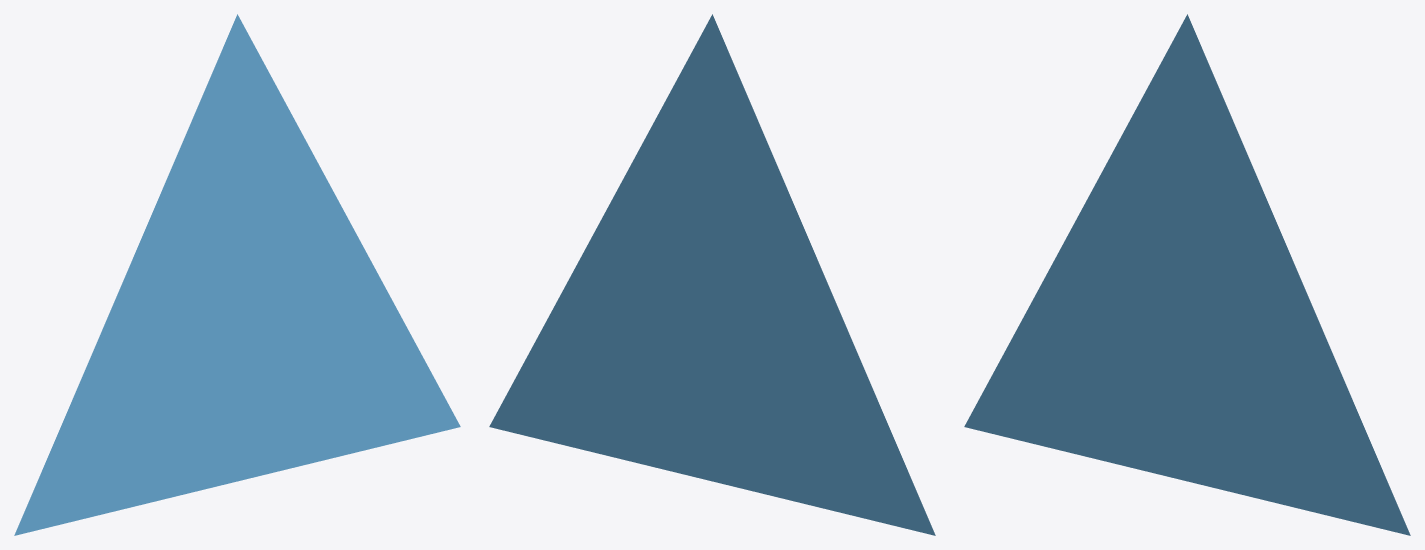
Rendered from 0-large-smoke.glb.
3 renders of one model, left to right at view 1: azimuth 30°, elevation 25°; view 2: azimuth 150°, elevation 25°; view 3: azimuth 330°, elevation 25°, orthographic.
Bounding box in the file's own units: 2 × 2 × 0.
